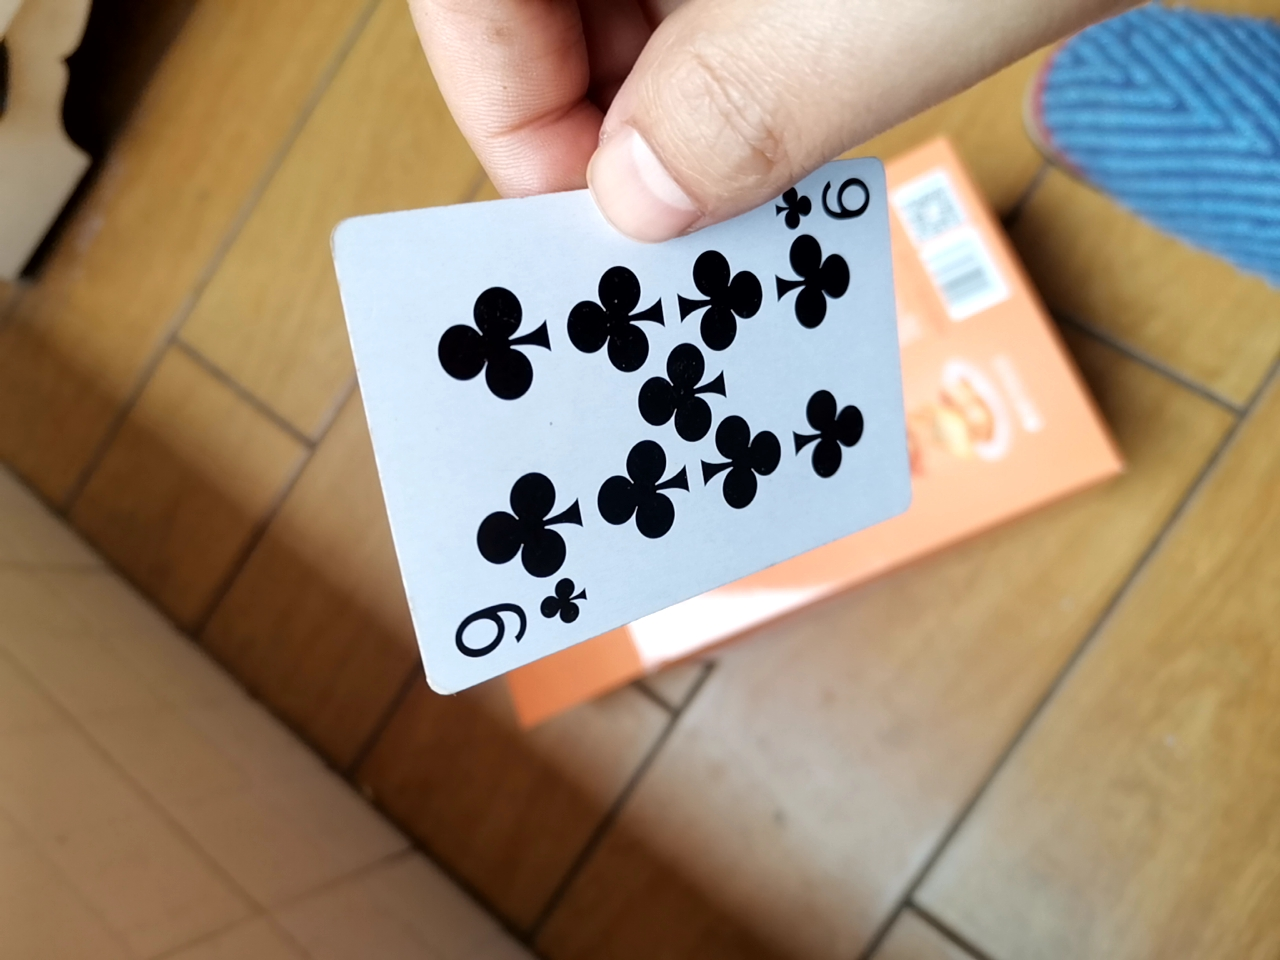mh 9: (321, 169, 942, 700)
